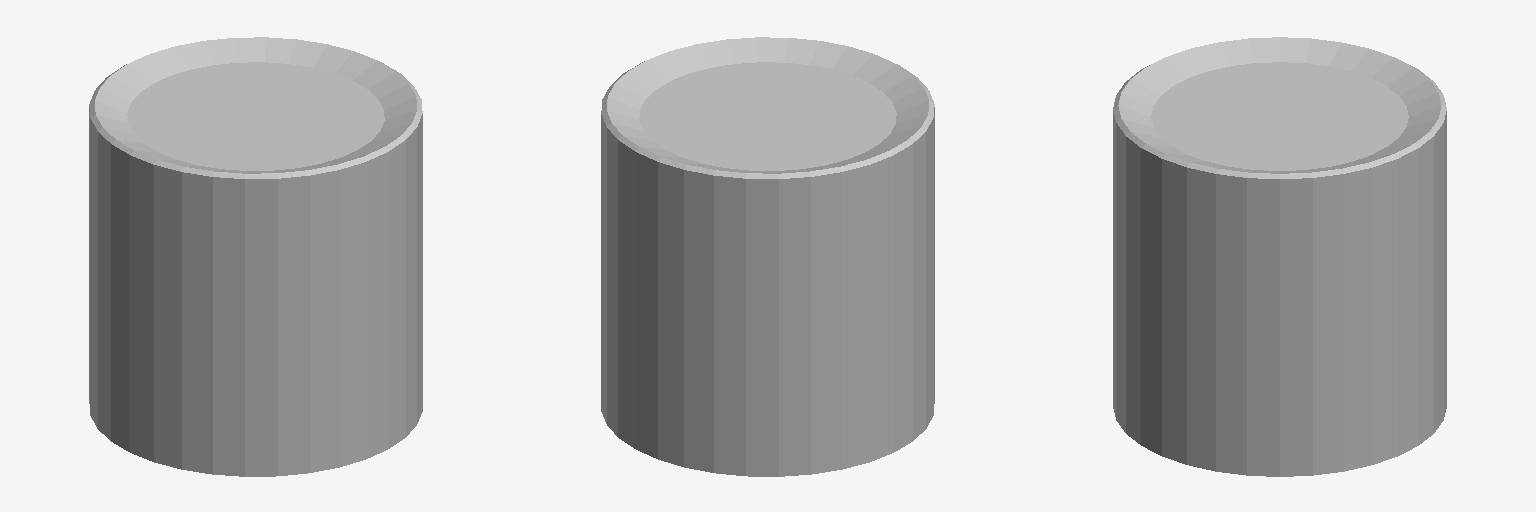
File: candle.obj
The picture shows the model from 3 angles: view 1: azimuth 30°, elevation 25°; view 2: azimuth 150°, elevation 25°; view 3: azimuth 270°, elevation 25°; orthographic projection.
Parts seen in each view (by area): view 1: Cylinder.001; view 2: Cylinder.001; view 3: Cylinder.001.
Part boxes in pixels (x1,y1,x2,y2): Cylinder.001: (89, 37, 422, 476); Cylinder.001: (601, 37, 934, 476); Cylinder.001: (1113, 37, 1446, 476).
Size of the model in its own units: 0.5628 by 0.5594 by 0.5628.